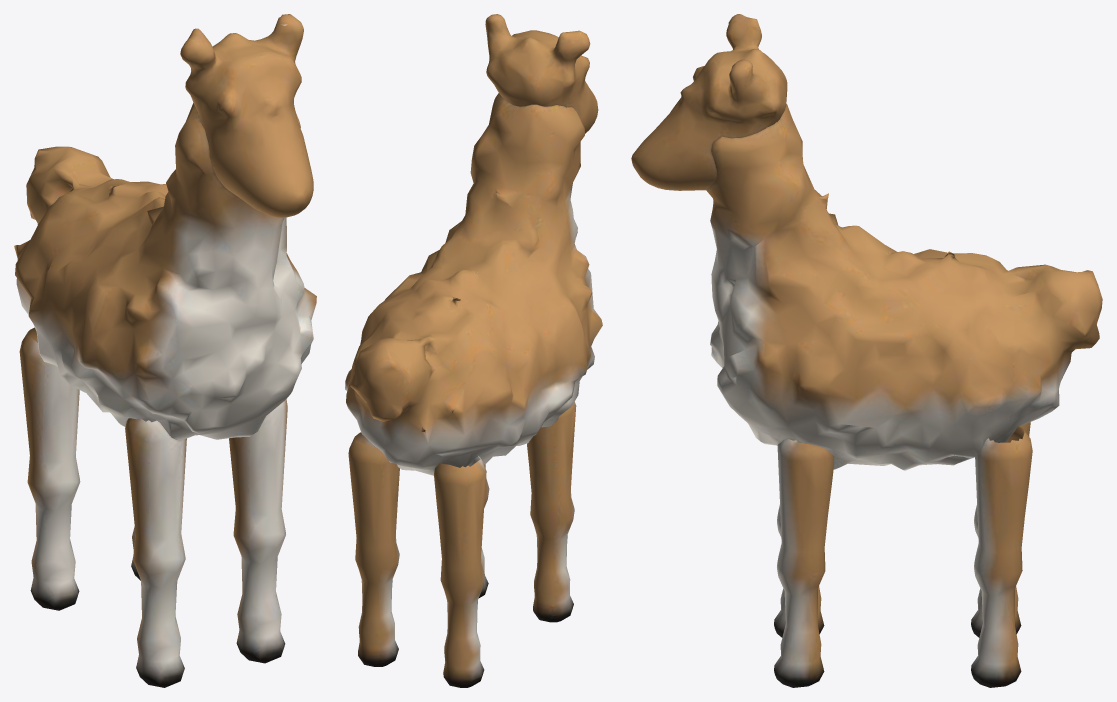
Rendered from animal_vicuna.glb.
The picture shows the model from 3 angles, left to right: view 1: azimuth 30°, elevation 25°; view 2: azimuth 150°, elevation 25°; view 3: azimuth 270°, elevation 25°; orthographic projection. The views are drawn at different scales.
Parts seen in each view (by area): view 1: animal_vicuna, head, leg0, leg2, leg1; view 2: animal_vicuna, leg2, leg3, head, leg0; view 3: animal_vicuna, head, leg3, leg1, leg2.
Boxes of the visible parts, <box> form: animal_vicuna: <box>14,103,316,440</box>; head: <box>180,14,313,217</box>; leg0: <box>125,418,186,687</box>; leg2: <box>19,327,80,610</box>; leg1: <box>229,399,287,663</box>; animal_vicuna: <box>345,93,602,475</box>; leg2: <box>434,455,486,687</box>; leg3: <box>348,432,399,666</box>; head: <box>485,14,598,133</box>; leg0: <box>527,402,576,622</box>; animal_vicuna: <box>706,104,1102,470</box>; head: <box>631,14,787,190</box>; leg3: <box>971,426,1032,687</box>; leg1: <box>774,439,833,687</box>; leg2: <box>971,422,1030,637</box>.
Size of the model in its own units: 0.2209 by 0.6661 by 0.4545.
1 material, 1 textured.
